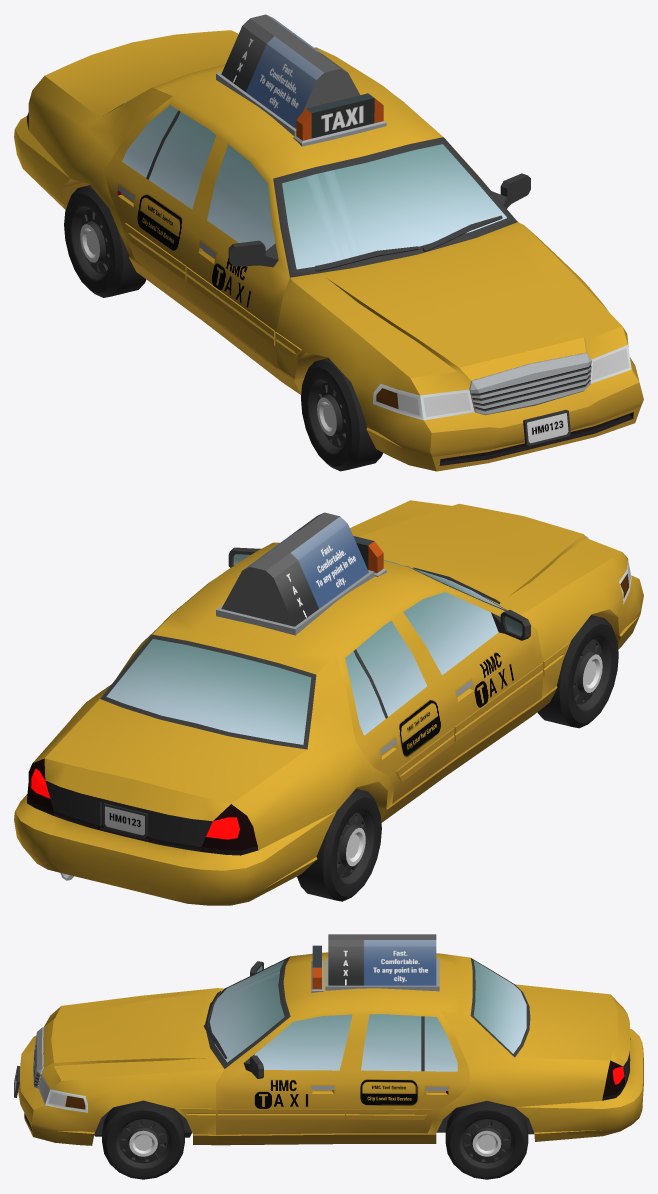
File: Taxi_stylized.fbx
The picture shows the model from 3 angles, top to bottom: view 1: azimuth 30°, elevation 25°; view 2: azimuth 150°, elevation 25°; view 3: azimuth 270°, elevation 25°; orthographic projection. The views are drawn at different scales.
Visible parts, largest first — view 1: Taxi_S, Taxi_S_Decal, TS_WheelFR, TS_Wheels_B; view 2: Taxi_S, Taxi_S_Decal, TS_Wheels_B, TS_WheelFR; view 3: Taxi_S, Taxi_S_Decal, TS_Wheels_B, TS_WheelFL.
Part boxes in pixels (x1,y1,x2,y2): Taxi_S: (14, 30, 643, 471); Taxi_S_Decal: (216, 14, 359, 136); TS_WheelFR: (301, 358, 382, 471); TS_Wheels_B: (64, 185, 146, 297); Taxi_S: (14, 500, 643, 905); Taxi_S_Decal: (216, 512, 374, 635); TS_Wheels_B: (297, 789, 381, 901); TS_WheelFR: (537, 615, 618, 728); Taxi_S: (14, 945, 643, 1145); Taxi_S_Decal: (325, 934, 439, 991); TS_Wheels_B: (445, 1101, 528, 1179); TS_WheelFL: (102, 1100, 184, 1179).
Size of the model in its own units: 84.97 by 73.42 by 213.
